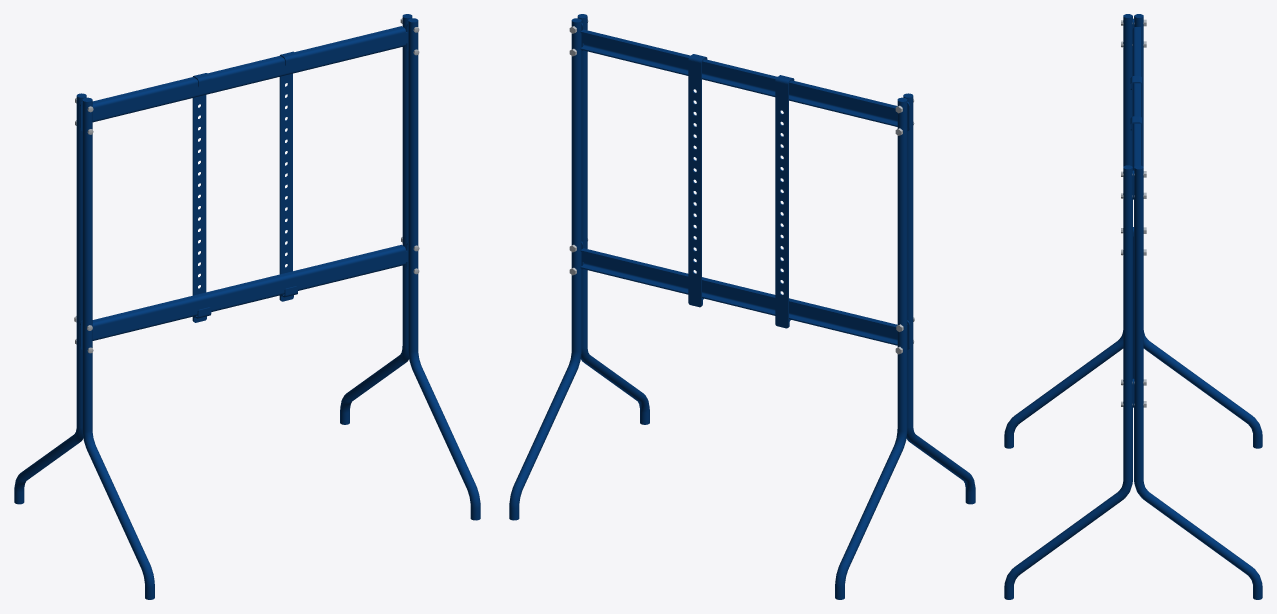
Rendered from moon-regular.glb.
3 renders of one model, left to right at view 1: azimuth 30°, elevation 25°; view 2: azimuth 150°, elevation 25°; view 3: azimuth 270°, elevation 25°, orthographic. The views are drawn at different scales.
Parts seen in each view (by area): view 1: C-Moon Regular.001; view 2: C-Moon Regular.001; view 3: C-Moon Regular.001.
Boxes of the visible parts, x1=… form: C-Moon Regular.001: x1=14, y1=14, x2=480, y2=599; C-Moon Regular.001: x1=509, y1=14, x2=975, y2=599; C-Moon Regular.001: x1=1004, y1=14, x2=1262, y2=599.
Size of the model in its own units: 0.7745 by 1 by 0.5439.
